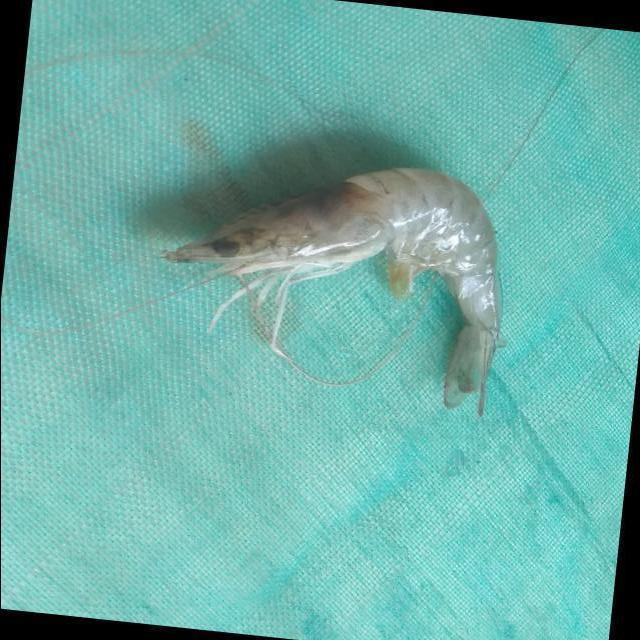shrimp: (164, 167, 501, 414)
